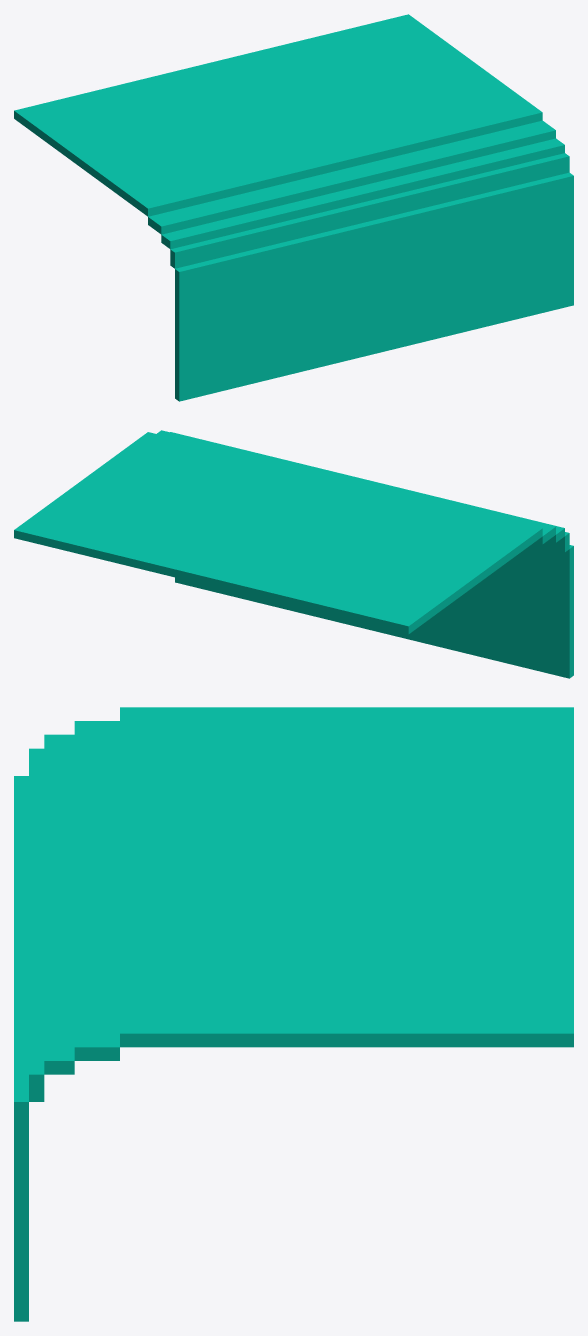
Rendered from PrinterGlass.obj.
3 views of the same model, one above another, from view 1: azimuth 30°, elevation 25°; view 2: azimuth 150°, elevation 25°; view 3: azimuth 270°, elevation 25° (orthographic). The views are drawn at different scales.
Visible parts, largest first — view 1: PrinterGlass; view 2: PrinterGlass; view 3: PrinterGlass.
Part boxes in pixels (x1=…): PrinterGlass: x1=14, y1=14, x2=573, y2=401; PrinterGlass: x1=14, y1=430, x2=573, y2=678; PrinterGlass: x1=14, y1=707, x2=573, y2=1321.
Size of the model in its own units: 51 by 21 by 37.
1 material, 1 textured.
